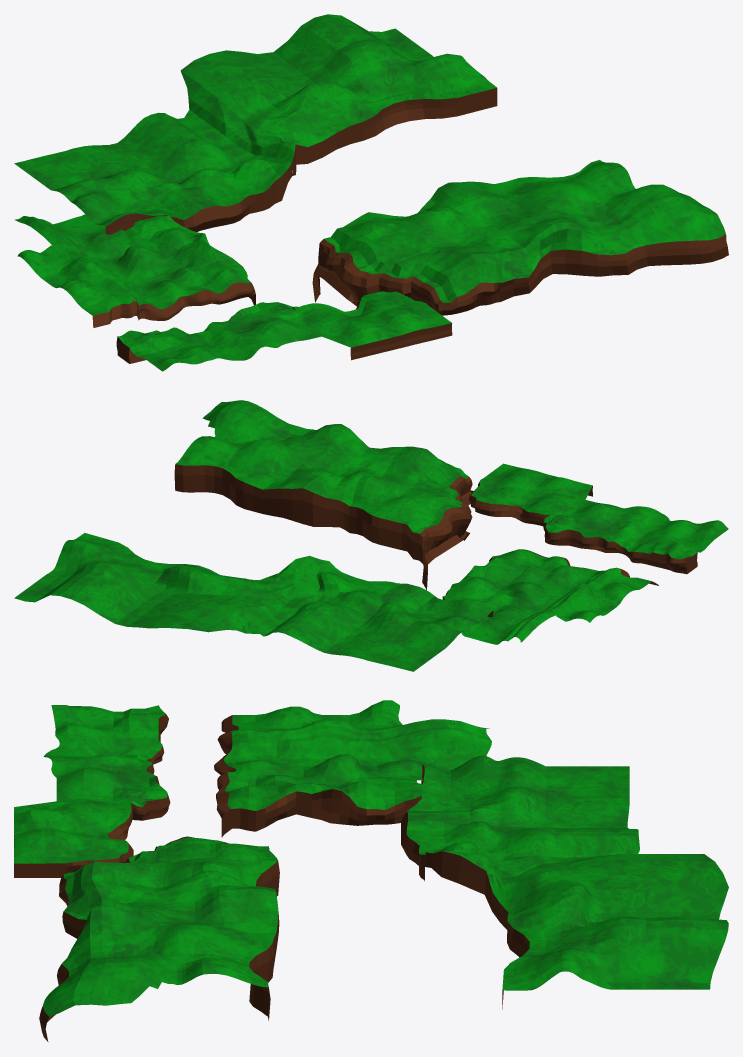
File: Montanhas 1.fbx
3 views of the same model, one above another, from view 1: azimuth 30°, elevation 25°; view 2: azimuth 150°, elevation 25°; view 3: azimuth 270°, elevation 25° (orthographic). The views are drawn at different scales.
Parts seen in each view (by area): view 1: Montanha1, Montanha4, Montanha3, Montanha2, Montanha4.001, Montanha1.001, Montanha3.001, Montanha2.001; view 2: Montanha1, Montanha4, Montanha3, Montanha2, Montanha4.001, Montanha2.001; view 3: Montanha1, Montanha4, Montanha3, Montanha2, Montanha3.001, Montanha1.001, Montanha4.001, Montanha2.001.
Part boxes in pixels (box(x1,y1,x2,y2)): Montanha1: box(14, 14, 496, 226); Montanha4: box(324, 160, 725, 302); Montanha3: box(14, 214, 251, 315); Montanha2: box(118, 291, 451, 371); Montanha4.001: box(312, 234, 728, 315); Montanha1.001: box(105, 88, 497, 234); Montanha3.001: box(92, 282, 255, 327); Montanha2.001: box(116, 298, 452, 363); Montanha1: box(14, 533, 492, 671); Montanha4: box(175, 400, 468, 533); Montanha3: box(443, 549, 651, 644); Montanha2: box(471, 463, 728, 559); Montanha4.001: box(174, 464, 473, 590); Montanha2.001: box(469, 480, 697, 574); Montanha1: box(406, 755, 728, 990); Montanha4: box(43, 837, 278, 1016); Montanha3: box(224, 700, 491, 810); Montanha2: box(14, 705, 167, 863); Montanha3.001: box(214, 715, 421, 837); Montanha1.001: box(401, 764, 529, 1009); Montanha4.001: box(39, 836, 279, 1041); Montanha2.001: box(14, 714, 170, 877).
Size of the model in its own units: 58645 by 9287 by 56410.
